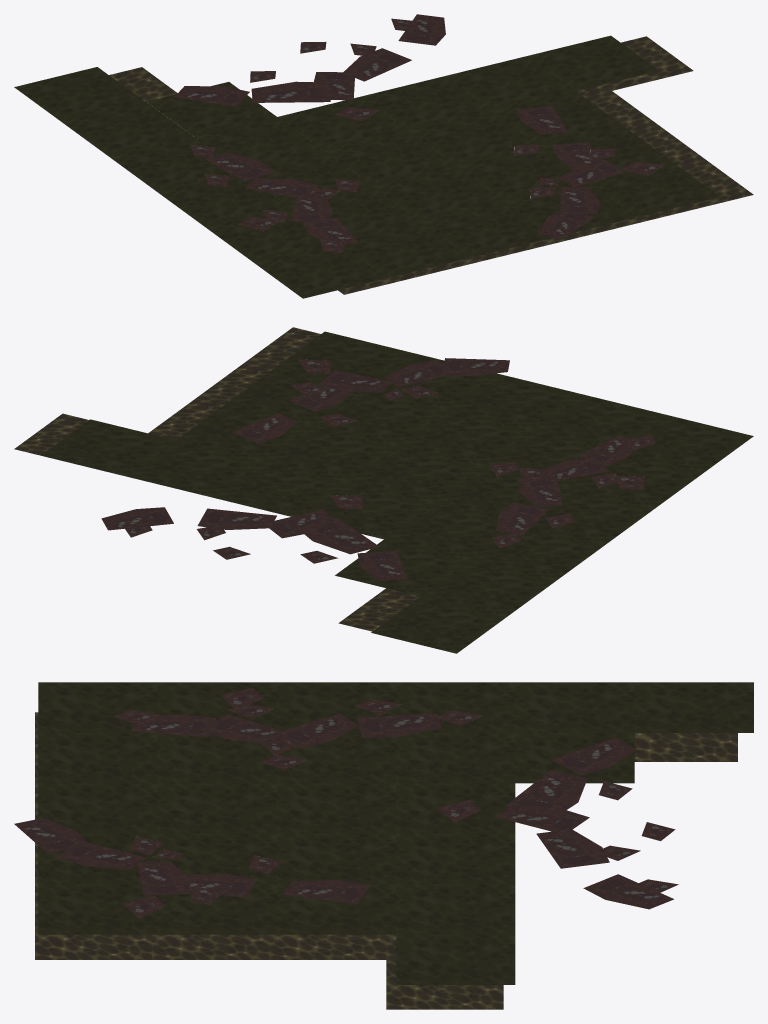
Rendered from mesh_zuhe_2.FBX.
3 renders of one model, top to bottom at view 1: azimuth 30°, elevation 25°; view 2: azimuth 150°, elevation 25°; view 3: azimuth 270°, elevation 25°, orthographic. The views are drawn at different scales.
Visible parts, largest first — view 1: mesh_zuhe_2; view 2: mesh_zuhe_2; view 3: mesh_zuhe_2.
Boxes of the visible parts, x1,y1,x2,y2 form: mesh_zuhe_2: [14, 14, 753, 298]; mesh_zuhe_2: [14, 327, 753, 653]; mesh_zuhe_2: [14, 682, 753, 1009].
Bounding box in the file's own units: 6748 × 136 × 6573.
1 material, 1 textured.
